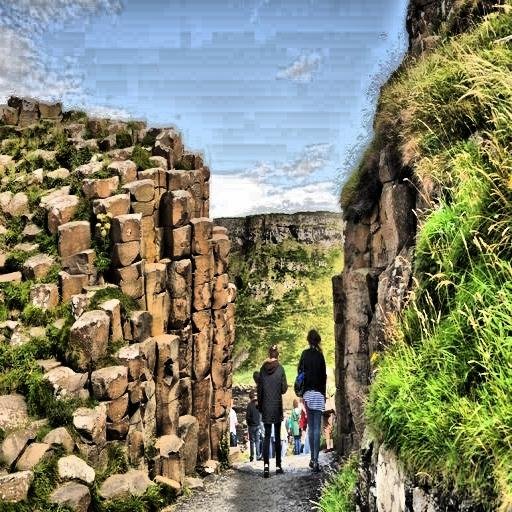person: (239, 329, 334, 476)
